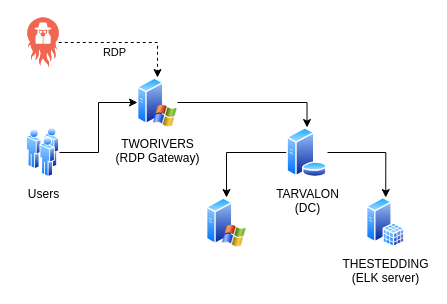
Some shapes in this 447 by 304 pixel diagram are drawn without their labels. Here are the shapes that lost their labels. From the top down, the centre of each, then its label:
the point at 42,42: Lighteater (TA)
the point at 226,222: DRAGONMOUNT (File server)
